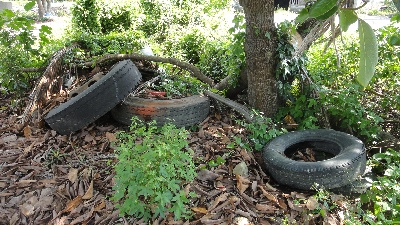tire: (43, 56, 143, 135), (261, 127, 370, 189), (110, 90, 216, 130)
